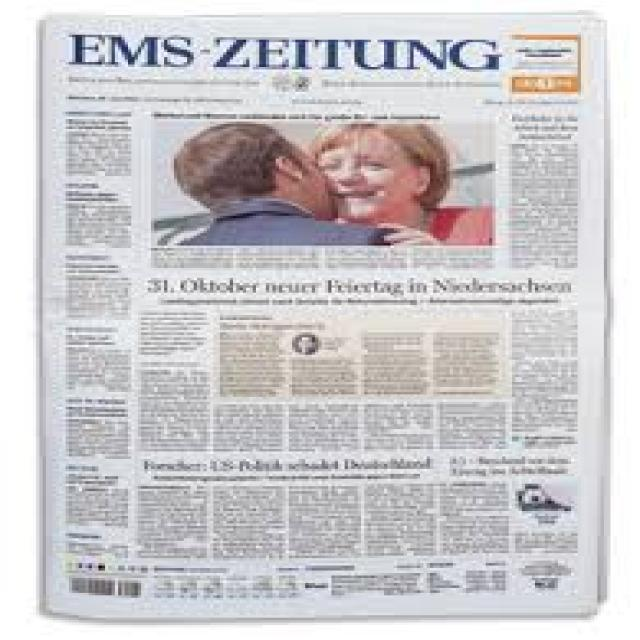paper: (38, 15, 601, 640)
